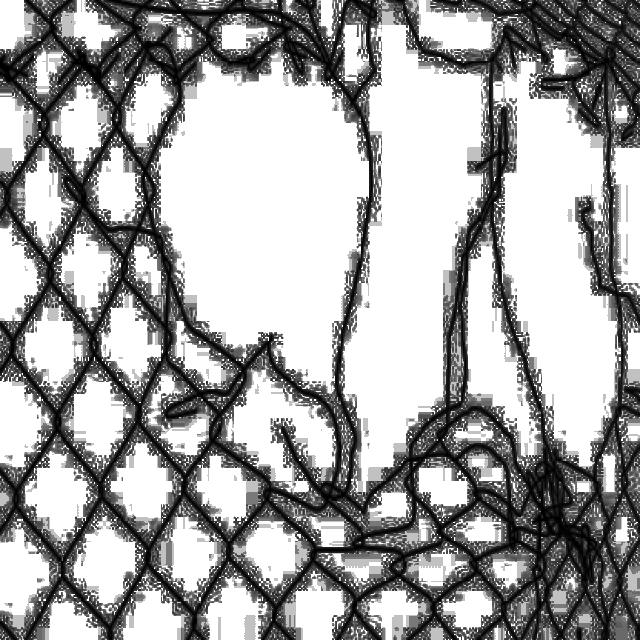anomaly-fence: (18, 0, 640, 557)
